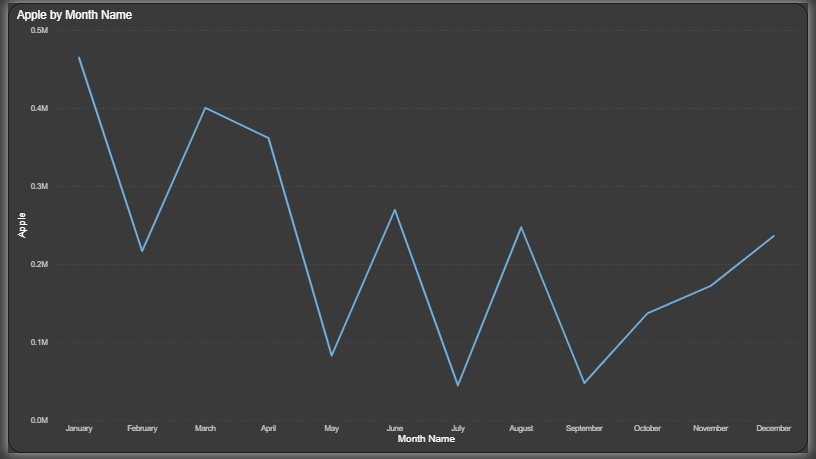

This screenshot's page, from the dashboard's own definition file:
{"tool":"powerbi","page":{"name":"Apple sales over the Month","canvas":[1280,720],"ordinal":3},"visuals":[{"type":"lineChart","fields":{"Category":["Dim Calendar.Month Name"],"Y":["FactSales.apple"]},"box":[0,0,1280,720],"z":0}]}

Visuals, with their boxes in screenshot pixels (x1, y1, x2, y2), scaled from the page's 1280x720 canvas onto the 816x459 screenshot:
lineChart - Dim Calendar.Month Name x FactSales.apple: 0:0:815:458
